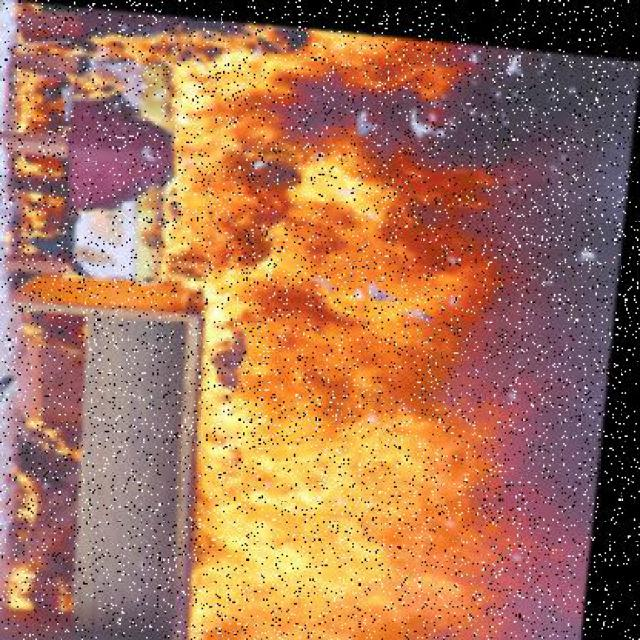fire: (126, 14, 518, 640)
